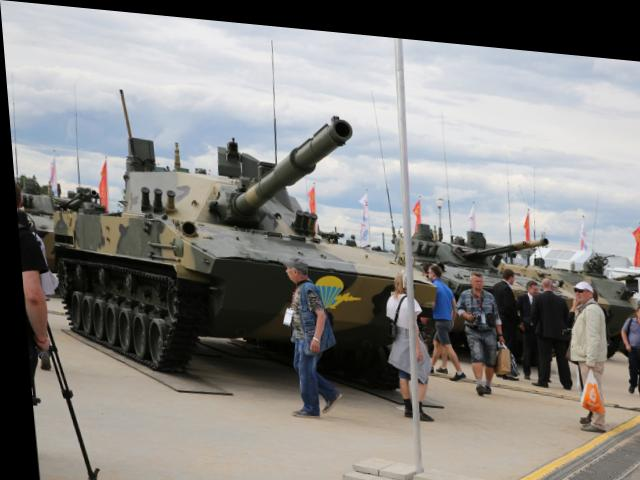other: (272, 249, 335, 401), (13, 208, 53, 431), (377, 261, 424, 429), (560, 270, 605, 421), (453, 260, 498, 386), (529, 262, 569, 387), (424, 255, 456, 375), (490, 250, 518, 354), (616, 290, 640, 383)
tank: (61, 133, 430, 383), (420, 214, 530, 319), (15, 172, 66, 252)
